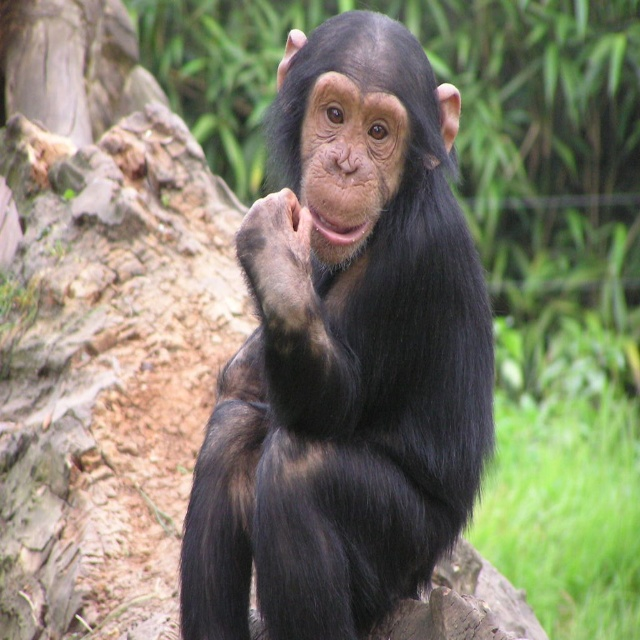Monkey: (179, 35, 505, 640)
